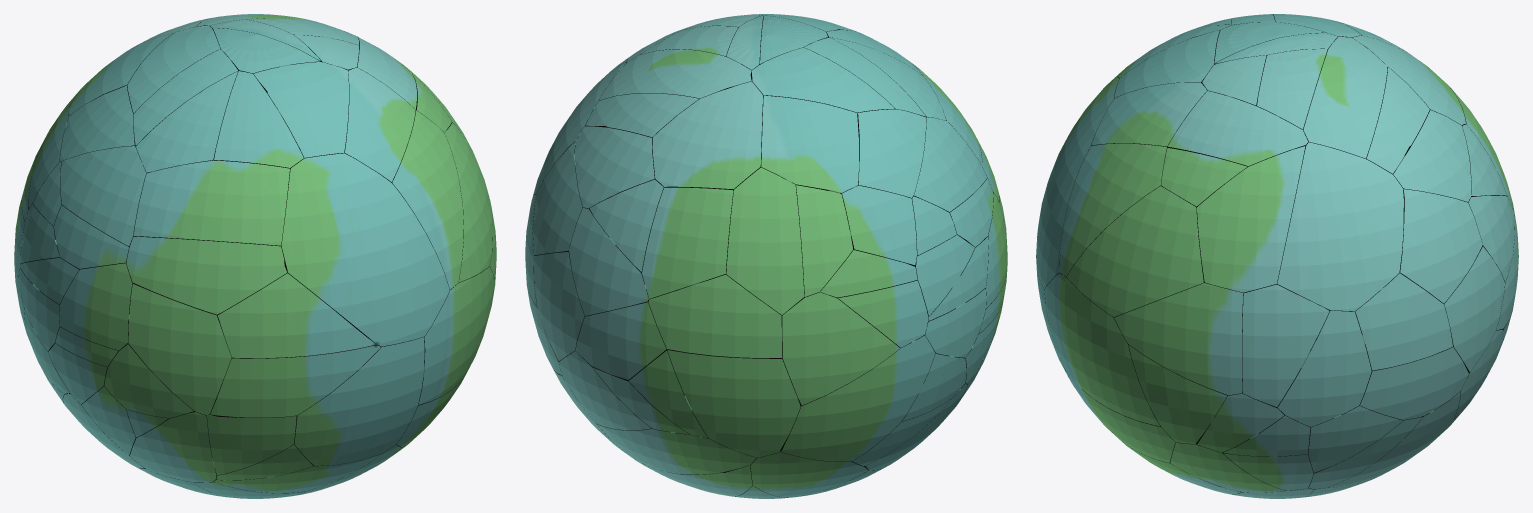
The model's file is EarthExplosion1.fbx.
3 renders of one model, left to right at view 1: azimuth 30°, elevation 25°; view 2: azimuth 150°, elevation 25°; view 3: azimuth 270°, elevation 25°, orthographic.
Parts seen in each view (by area): view 1: Sphere_cell.081, Sphere_cell.012, Sphere_cell.030, Sphere_cell.055, Sphere_cell.049, Sphere_cell.084, Sphere_cell.053, Sphere_cell.064, Sphere_cell.088, Sphere_cell.056, Sphere_cell.031, Sphere_cell.048 (+35 smaller); view 2: Sphere_cell.089, Sphere_cell.025, Sphere_cell.029, Sphere_cell.038, Sphere_cell.090, Sphere_cell.098, Sphere_cell.094, Sphere_cell.034, Sphere_cell.026, Sphere_cell.020, Sphere_cell.045, Sphere_cell.039 (+38 smaller); view 3: Sphere_cell.042, Sphere_cell.015, Sphere_cell.082, Sphere_cell.076, Sphere_cell.031, Sphere_cell.064, Sphere_cell.033, Sphere_cell.026, Sphere_cell.078, Sphere_cell.043, Sphere_cell.032, Sphere_cell.002 (+31 smaller).
Boxes of the visible parts, box(x1,y1,x2,y2) form: Sphere_cell.081: box(280, 153, 449, 346); Sphere_cell.012: box(133, 160, 289, 246); Sphere_cell.030: box(294, 337, 424, 465); Sphere_cell.055: box(126, 236, 287, 314); Sphere_cell.049: box(128, 283, 231, 415); Sphere_cell.084: box(217, 273, 375, 358); Sphere_cell.053: box(210, 337, 380, 417); Sphere_cell.064: box(391, 110, 463, 289); Sphere_cell.088: box(253, 62, 348, 158); Sphere_cell.056: box(60, 146, 146, 246); Sphere_cell.031: box(418, 266, 493, 404); Sphere_cell.048: box(344, 67, 415, 182); Sphere_cell.089: box(667, 349, 800, 457); Sphere_cell.025: box(780, 335, 935, 461); Sphere_cell.029: box(652, 81, 763, 190); Sphere_cell.038: box(726, 167, 804, 314); Sphere_cell.090: box(648, 274, 781, 357); Sphere_cell.098: box(781, 292, 899, 405); Sphere_cell.094: box(761, 95, 858, 193); Sphere_cell.034: box(642, 187, 733, 298); Sphere_cell.026: box(599, 49, 752, 100); Sphere_cell.020: box(857, 109, 925, 198); Sphere_cell.045: box(752, 47, 894, 112); Sphere_cell.039: box(569, 208, 656, 315); Sphere_cell.042: box(1277, 142, 1403, 311); Sphere_cell.015: box(1066, 186, 1204, 316); Sphere_cell.082: box(1197, 146, 1305, 292); Sphere_cell.076: box(1114, 282, 1243, 395); Sphere_cell.031: box(1044, 273, 1160, 426); Sphere_cell.064: box(1059, 143, 1196, 276); Sphere_cell.033: box(1242, 282, 1329, 406); Sphere_cell.026: box(1303, 36, 1387, 158); Sphere_cell.078: box(1399, 189, 1482, 303); Sphere_cell.043: box(1277, 309, 1371, 426); Sphere_cell.032: box(1167, 91, 1308, 166); Sphere_cell.002: box(1355, 273, 1452, 370).
Size of the model in its own units: 197 by 200 by 197.
